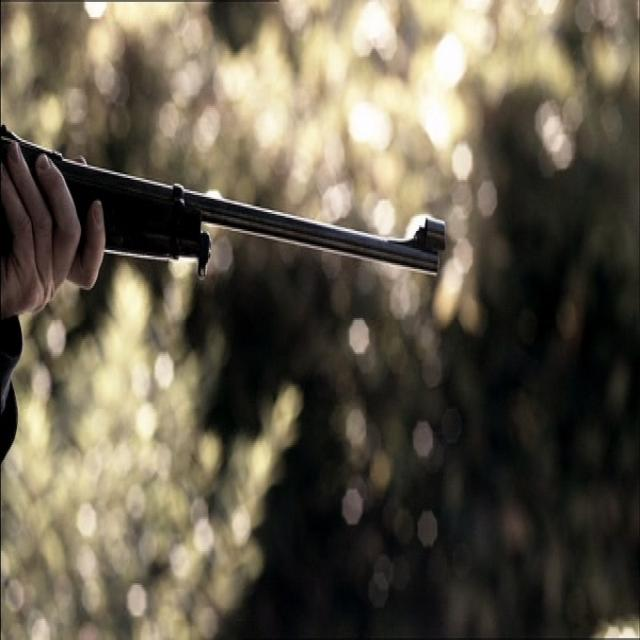rifle: (1, 121, 455, 292)
